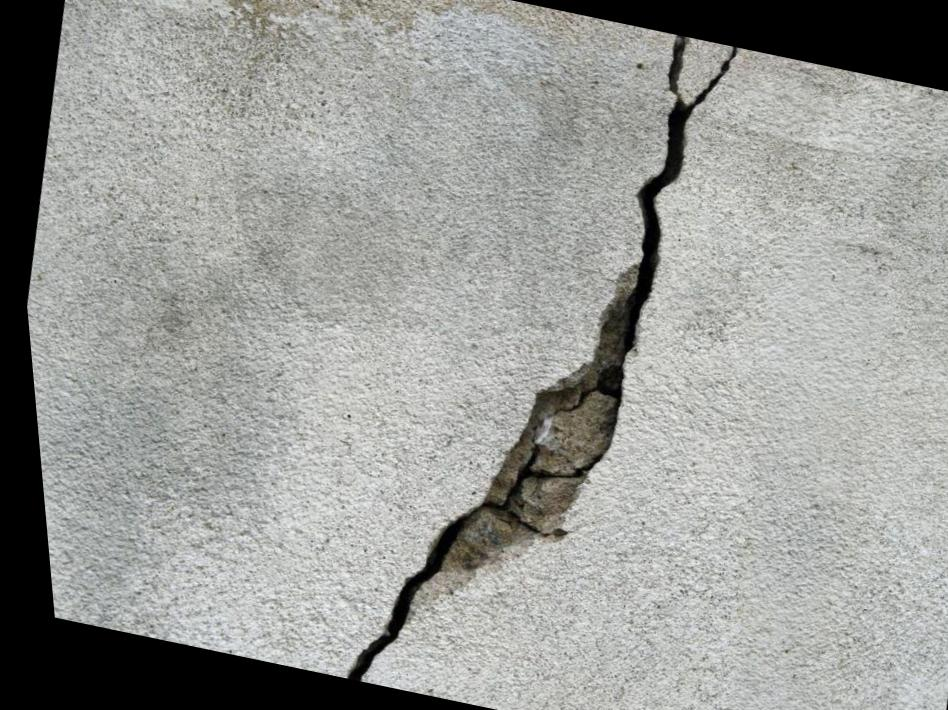crack: (333, 34, 737, 681), (522, 390, 607, 471)
damage: (379, 265, 650, 626)
